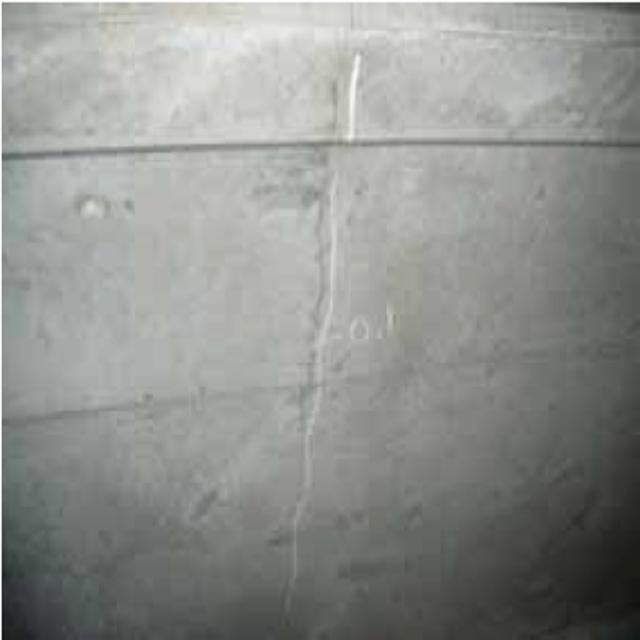crack: (277, 64, 357, 623)
